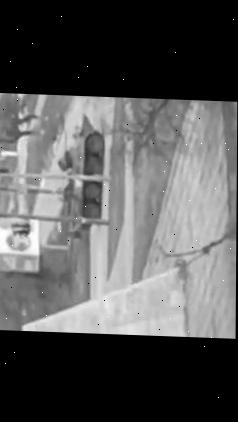tank: (59, 111, 104, 238)
